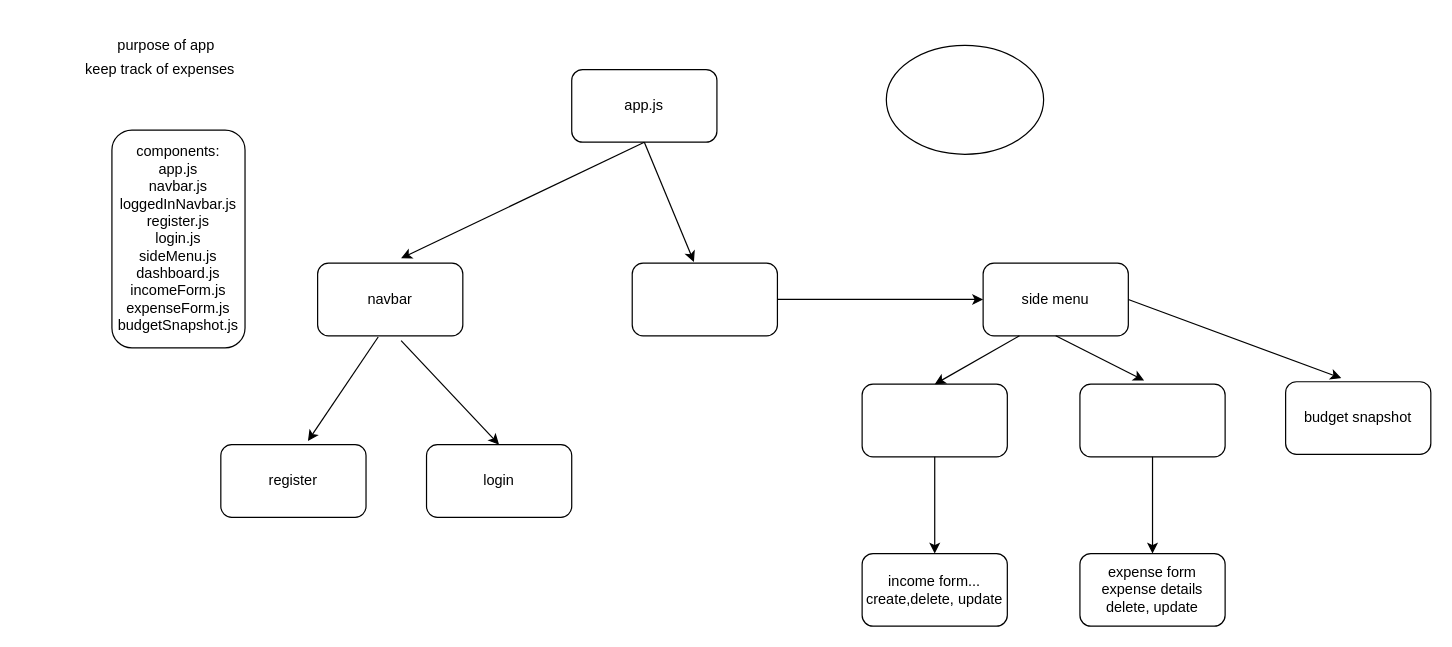
Image size: 1452x647. Some labels were removed from this diagram. The shapes that lost their labels are listed below. From the top down, each one's centre as x and y in pixels, then its label:
point 964,99: State Redux
point 704,299: user homepage/dashboard list of expenses
point 934,420: income button link to CRUD
point 1152,420: expense button CRUD
